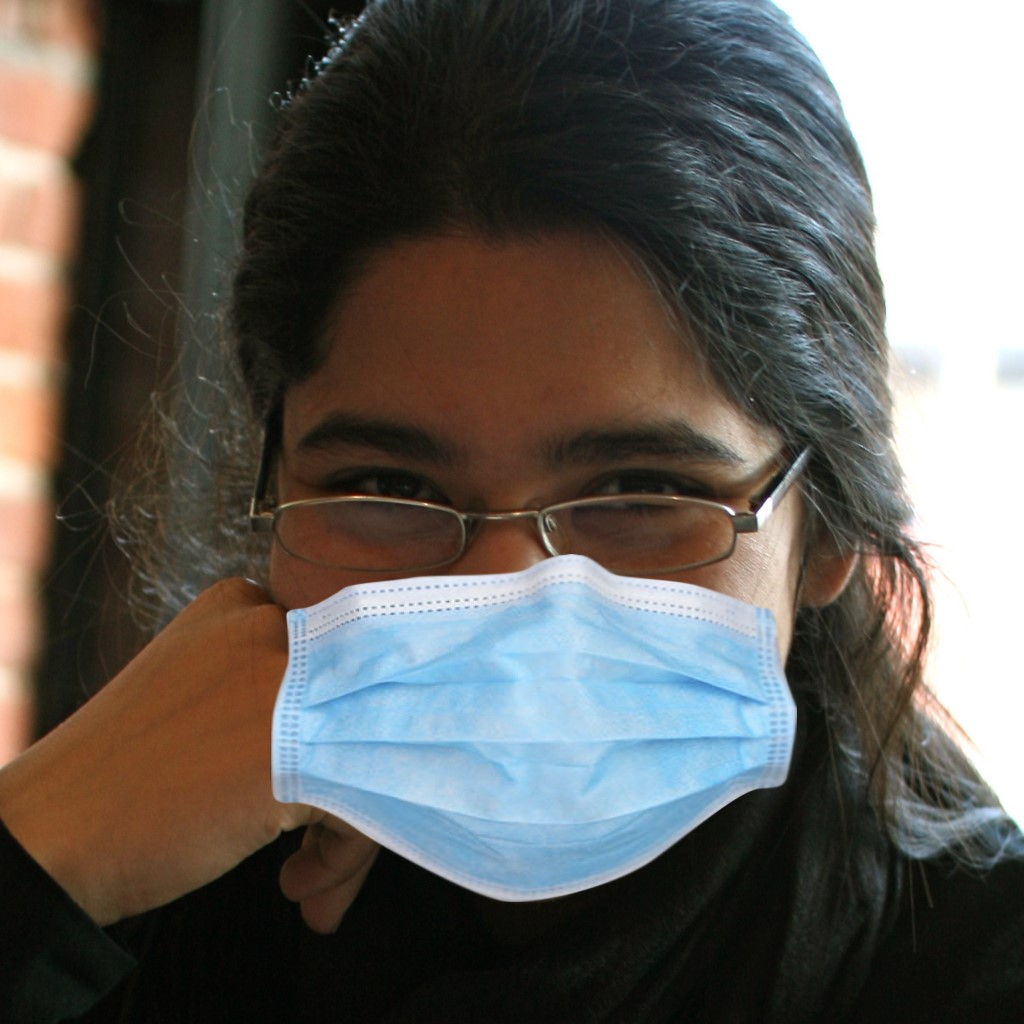con_mascara: (263, 233, 784, 890)
